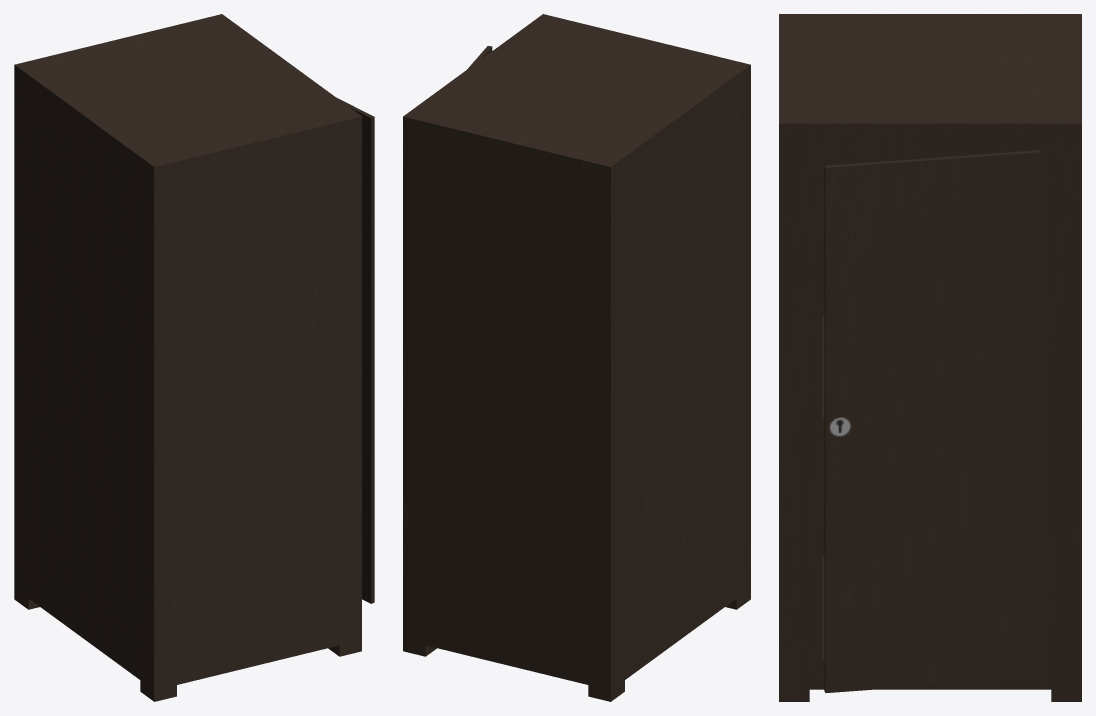
File: Elements_Cabinet-Open.fbx
The picture shows the model from 3 angles, left to right: view 1: azimuth 30°, elevation 25°; view 2: azimuth 150°, elevation 25°; view 3: azimuth 270°, elevation 25°; orthographic projection. The views are drawn at different scales.
Visible parts, largest first — view 1: Cabinet_Open, Door; view 2: Cabinet_Open; view 3: Door, Cabinet_Open.
Boxes of the visible parts, x1,y1,x2,y2 form: Cabinet_Open: (14,14,361,701); Door: (337,98,374,603); Cabinet_Open: (403,14,750,701); Door: (824,150,1040,692); Cabinet_Open: (779,14,1081,701).
Size of the model in its own units: 59.92 by 127 by 60.14.
Materials: 1 (1 with a texture image).
